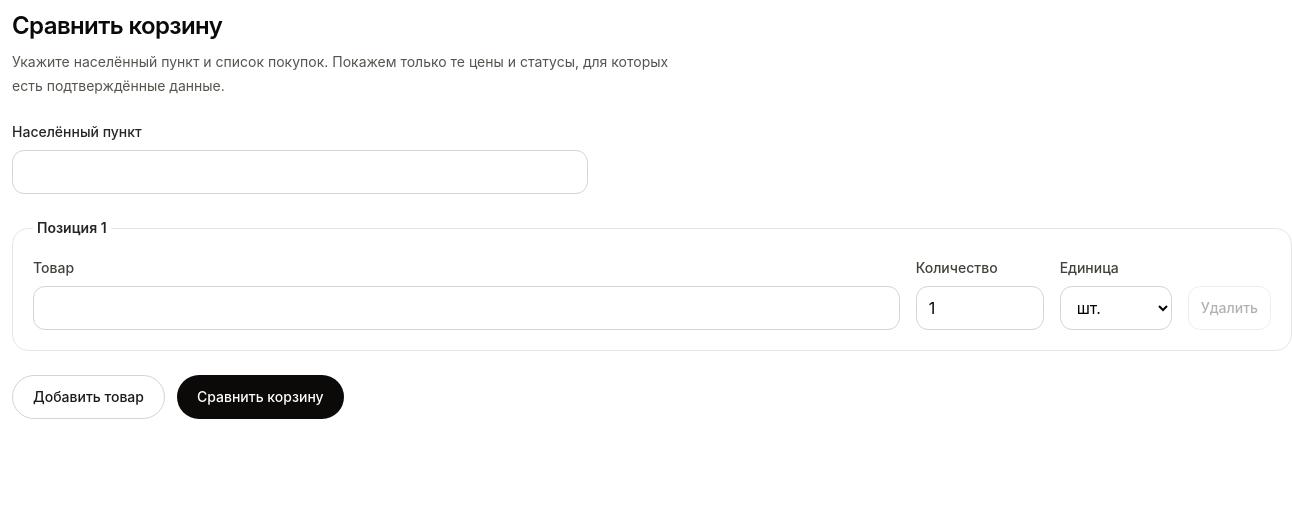
Scenario: comparison preview form › shows backend validation errors without exposing transport details
Type "Москва" into the field labelled "Населённый пункт" at (300,172), box [12,150,588,194]
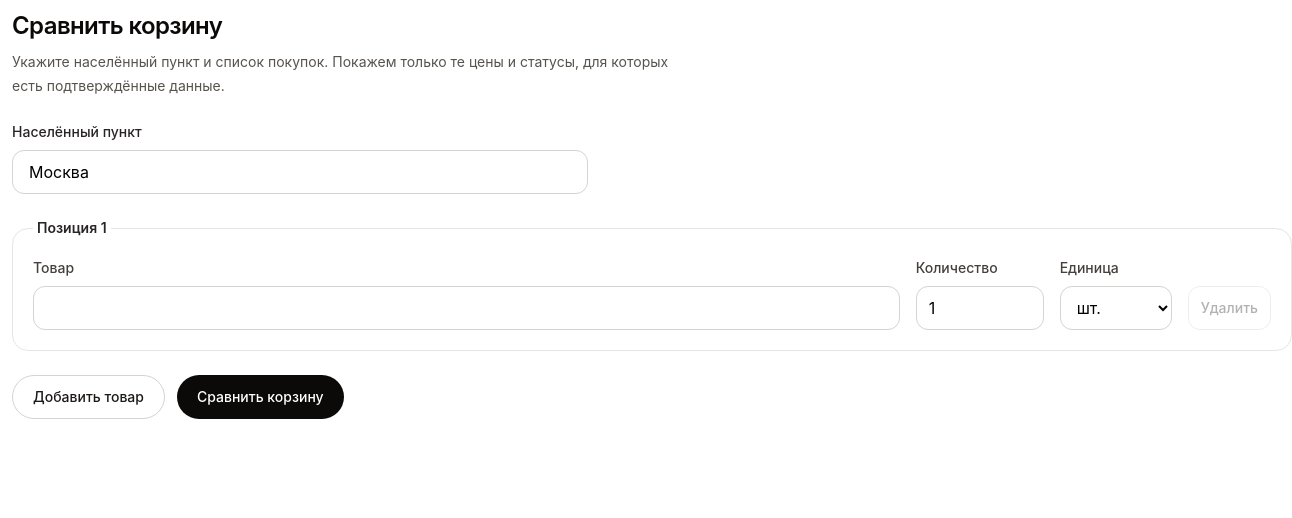
Type "Молоко" into the field labelled "Товар" at (466,308), box [33,286,900,330]
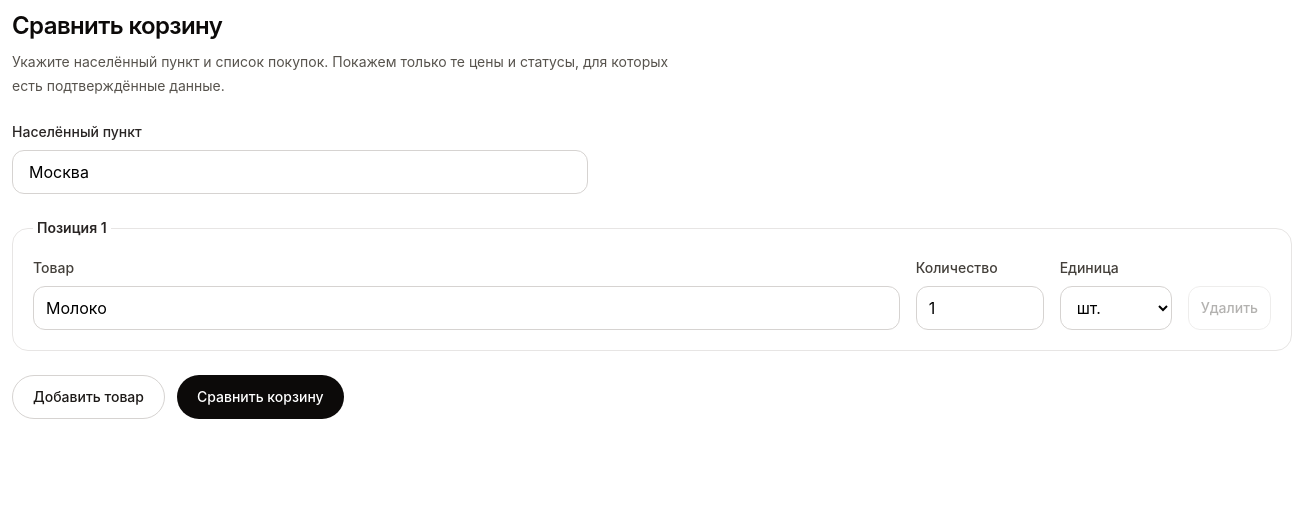
Replace the text in the number field labelled "Количество" with "2" at (980,308), box [916,286,1044,330]
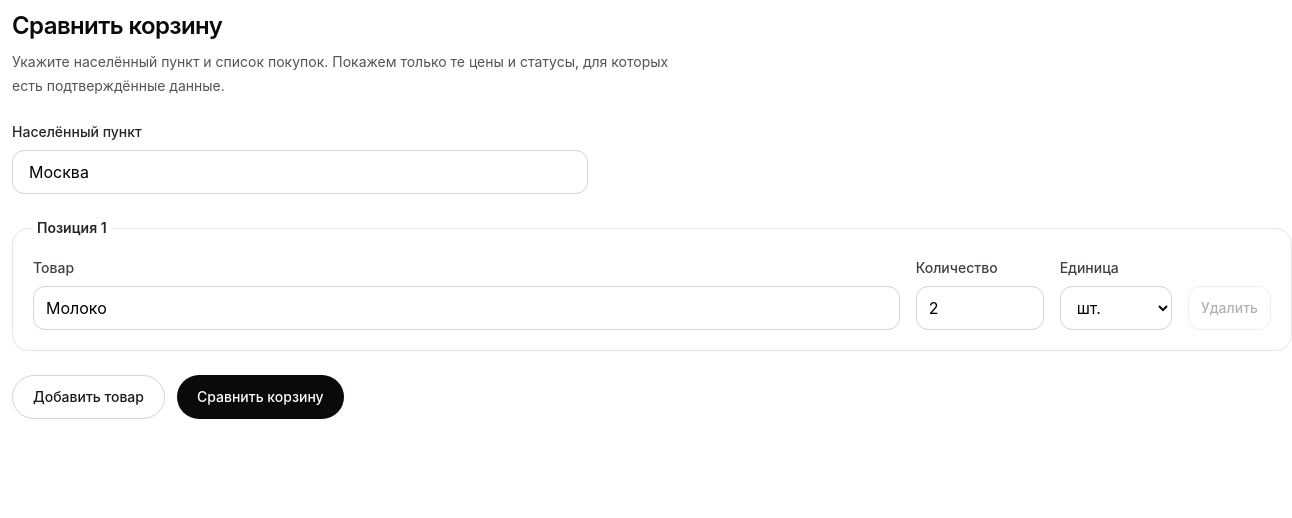
Click the button "Сравнить корзину" at (260,397), box [177,375,344,419]
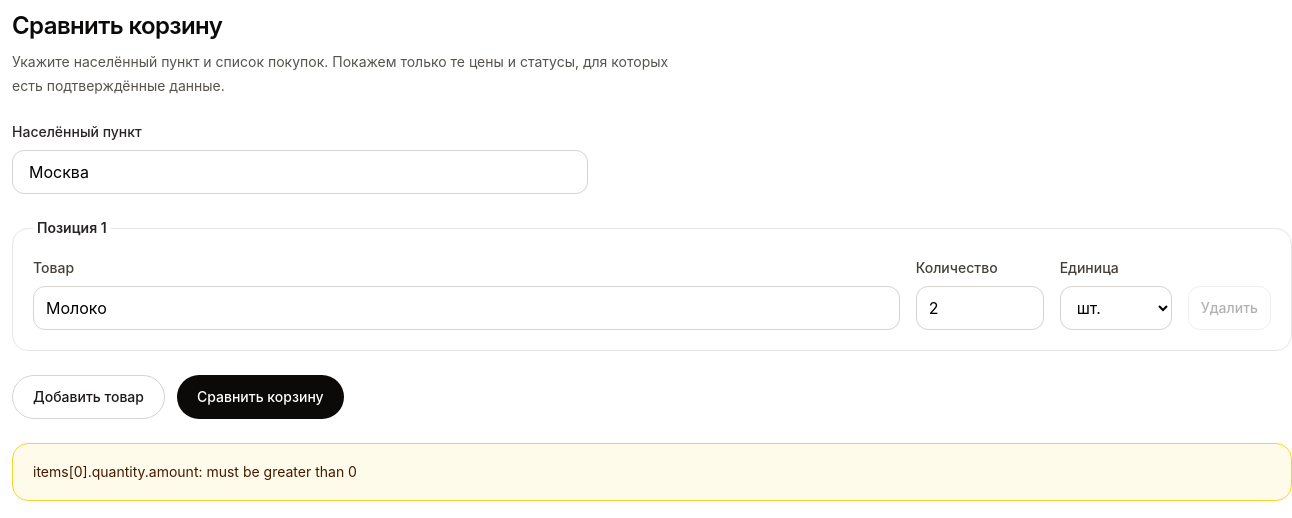
Check: the message "items[0].quantity.amount: must be greater than 0" is shown, box [12,443,1291,501]
Check: the message shows "items[0].quantity.amount", box [33,463,357,480]
